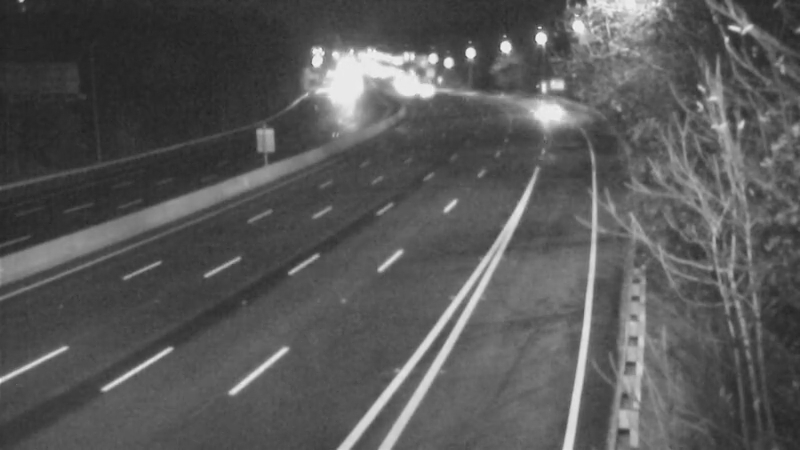vehicle: (538, 88, 588, 138)
